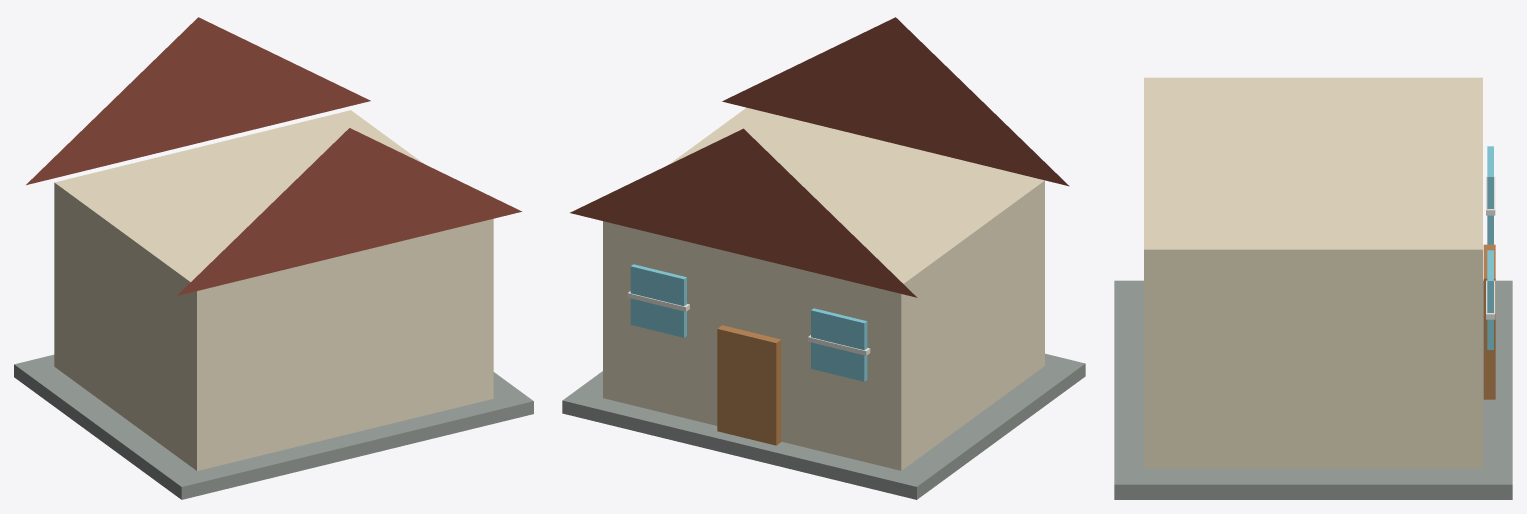
3 views of the same model, side by side, from view 1: azimuth 30°, elevation 25°; view 2: azimuth 150°, elevation 25°; view 3: azimuth 270°, elevation 25° (orthographic). The views are drawn at different scales.
Parts seen in each view (by area): view 1: house, part (×2), foundation; view 2: house, part (×2), foundation, door, window (×2); view 3: house, foundation, door, window (×2).
Part boxes in pixels (bbox=[...]): house: bbox=[54, 110, 493, 470]; part (×2): bbox=[26, 17, 521, 295]; foundation: bbox=[14, 354, 533, 499]; house: bbox=[603, 107, 1044, 470]; part (×2): bbox=[570, 17, 1069, 297]; foundation: bbox=[562, 353, 1085, 499]; door: bbox=[717, 325, 781, 445]; window (×2): bbox=[630, 264, 867, 381]; house: bbox=[1144, 77, 1482, 468]; foundation: bbox=[1114, 280, 1512, 499]; door: bbox=[1483, 244, 1495, 399]; window (×2): bbox=[1487, 146, 1493, 349].
Bounding box in the file's own units: 5.7 × 5 × 4.7.
